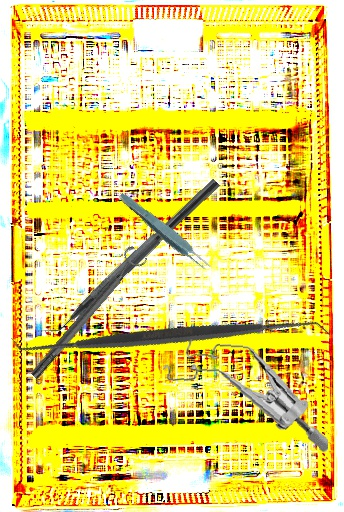Chopper: (34, 166, 221, 349)
Fixation Ring: (23, 243, 150, 385)
Spatula Surgical: (9, 175, 332, 498)
Speculum: (156, 334, 337, 455)
Tissue Forceps: (115, 188, 214, 276)
